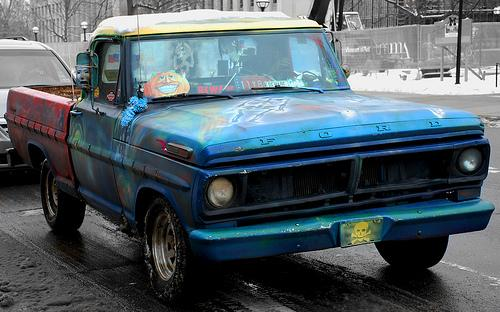truck: (3, 8, 495, 306)
